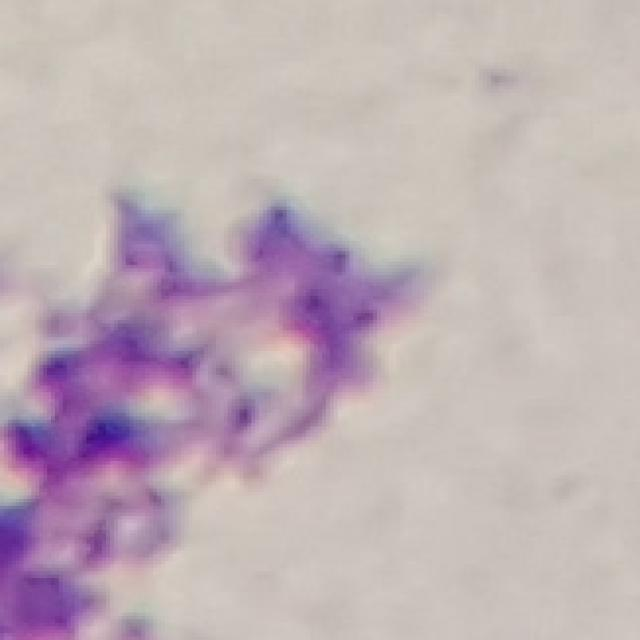non-sperm: (1, 202, 378, 512)
